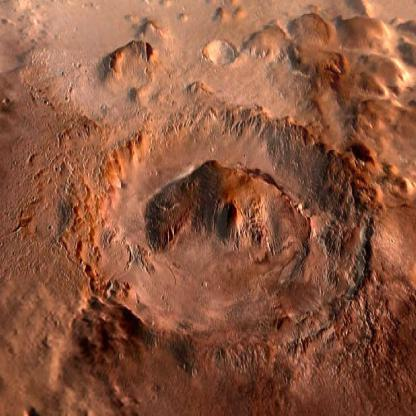craters: (63, 81, 391, 387), (326, 302, 416, 414), (281, 10, 346, 98), (98, 23, 158, 102), (242, 10, 289, 77), (200, 23, 242, 79), (385, 147, 415, 209), (344, 127, 379, 176)
